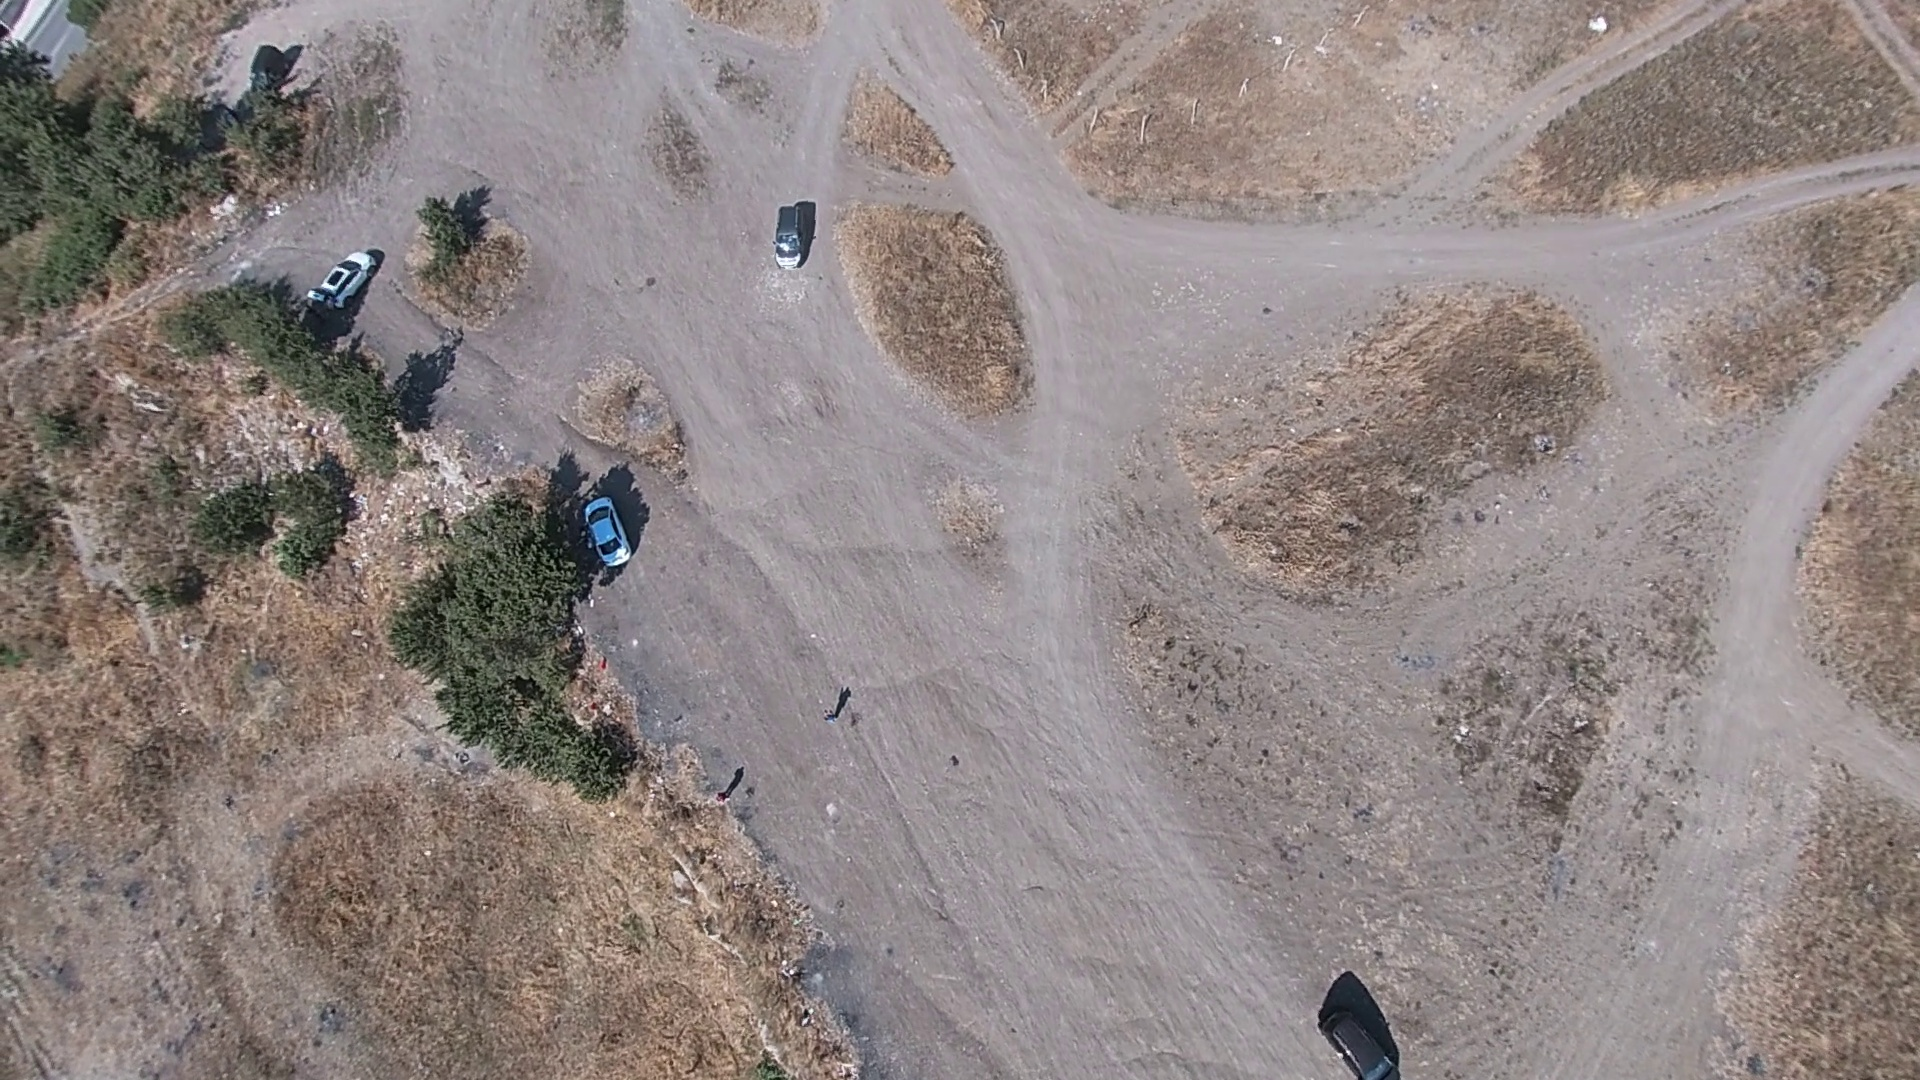araba: (1322, 973, 1407, 1080), (301, 242, 381, 320), (574, 485, 630, 568), (769, 201, 812, 265)
insan: (707, 781, 735, 813), (821, 702, 843, 727)
